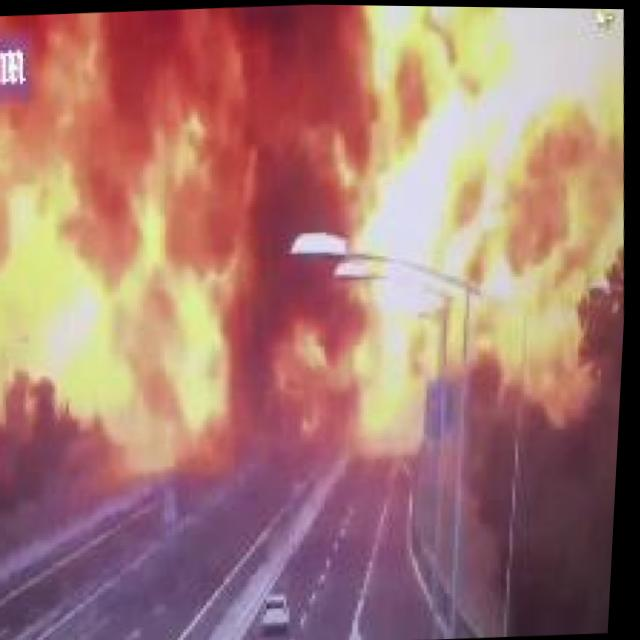fire: (298, 4, 640, 492), (0, 64, 302, 494)
